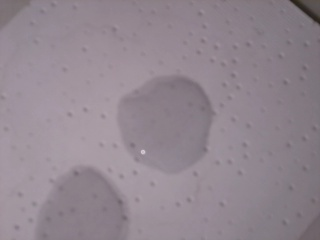Water_detected: (126, 78, 193, 161), (50, 179, 120, 240)
